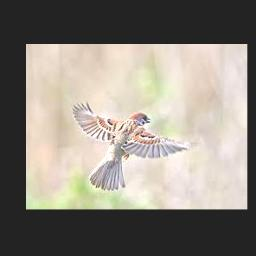Sparrow: (72, 101, 196, 191)
